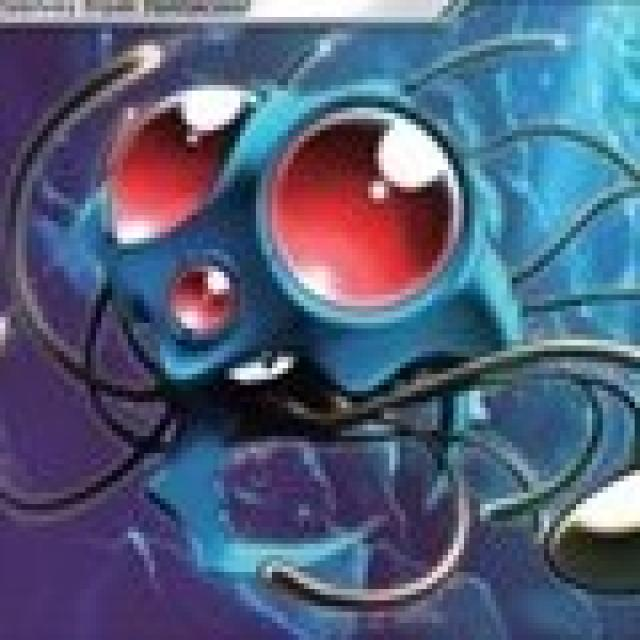Tentacruel: (69, 64, 530, 497)
